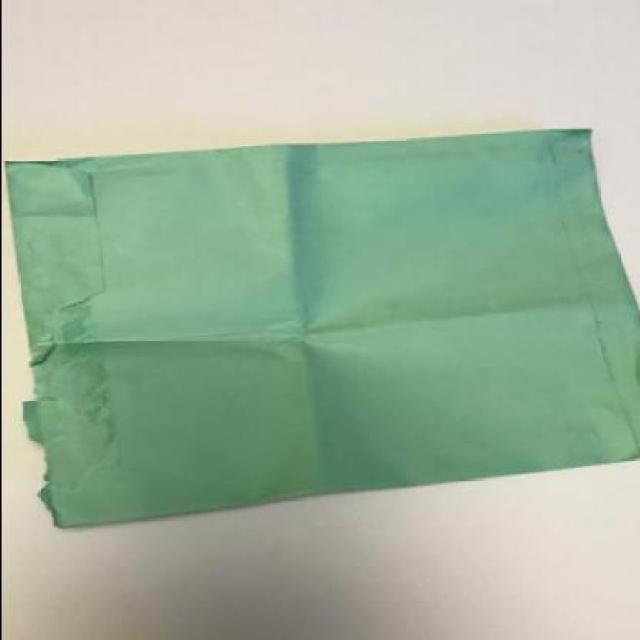paper: (1, 128, 638, 526)
